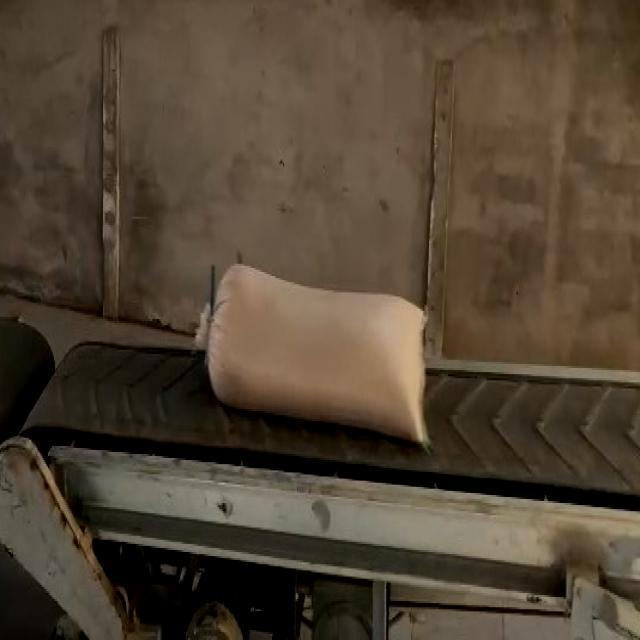gunny_bag: (207, 264, 429, 447)
